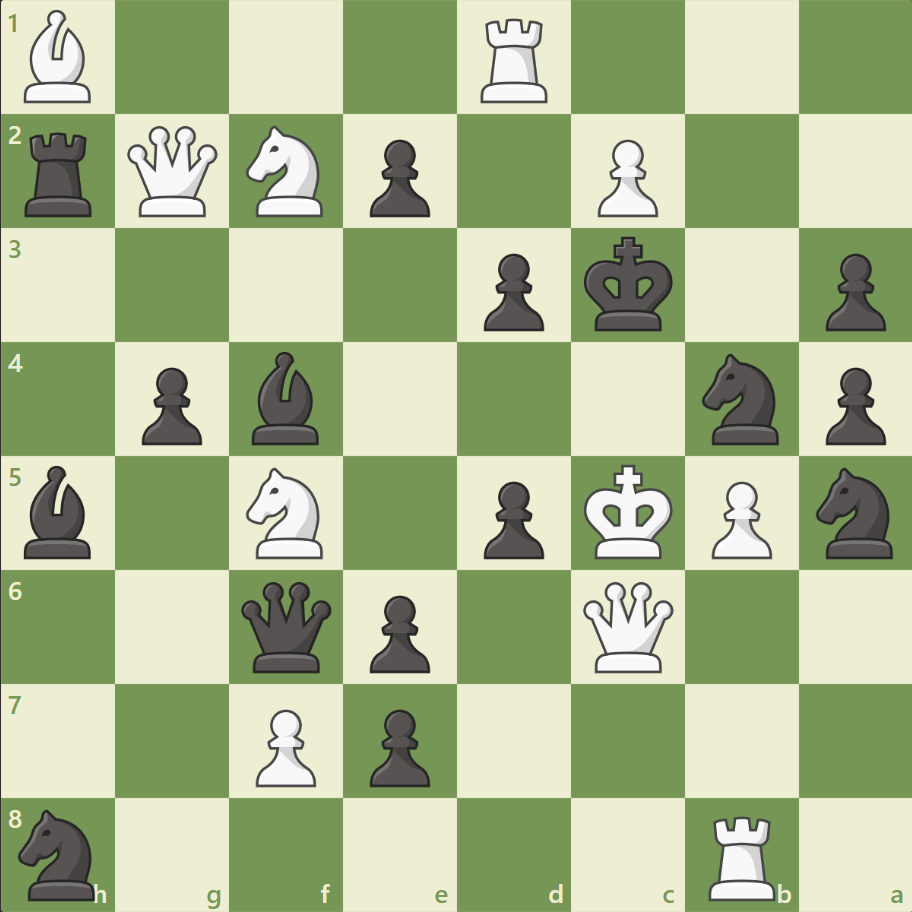B: (17, 6, 101, 109)
K: (579, 458, 679, 566)
N: (238, 461, 335, 564), (238, 121, 335, 223)
P: (247, 700, 322, 791), (701, 473, 776, 564), (588, 132, 662, 223)
Q: (578, 576, 677, 676), (124, 122, 223, 222)
R: (700, 806, 783, 904), (473, 12, 556, 109)
b: (17, 460, 101, 563), (244, 347, 328, 449)
k: (579, 231, 679, 339)
n: (806, 461, 903, 564), (11, 802, 108, 904), (692, 348, 789, 450)
p: (474, 473, 549, 564), (133, 359, 208, 450), (474, 246, 549, 337), (361, 700, 435, 791), (361, 586, 435, 677), (815, 359, 889, 450), (815, 246, 889, 337), (361, 132, 435, 223)
q: (237, 576, 336, 676)
r: (19, 125, 102, 222)
